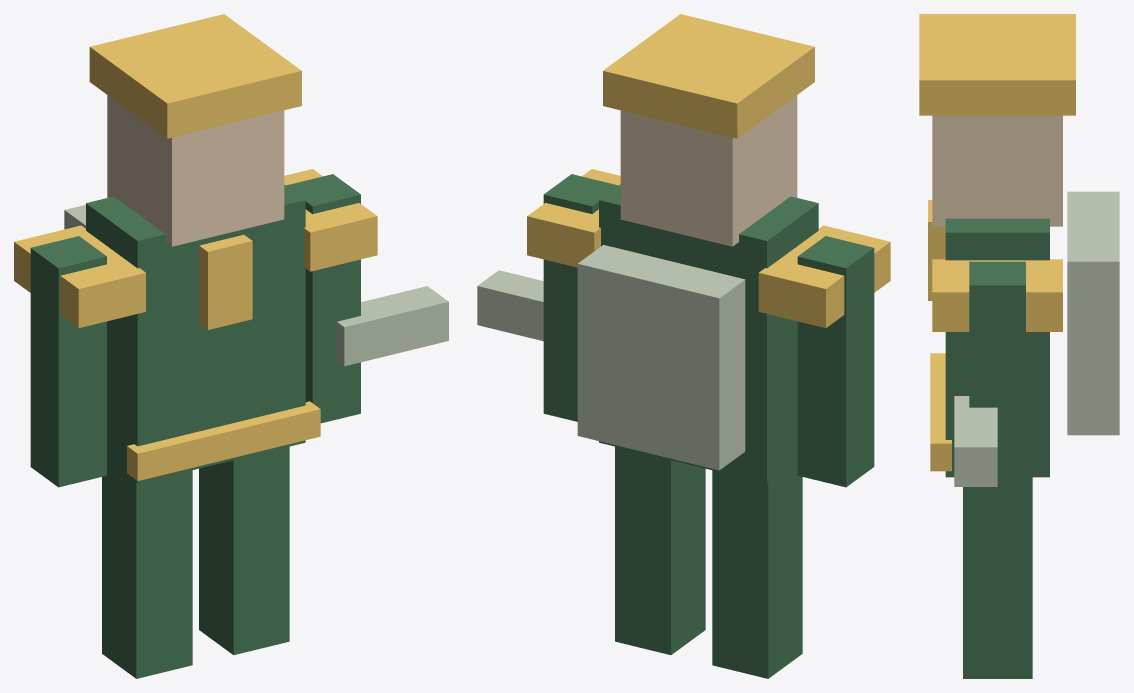
File: 12_juno_spirebound_diver_near_bass.glb
3 views of the same model, side by side, from view 1: azimuth 30°, elevation 25°; view 2: azimuth 150°, elevation 25°; view 3: azimuth 270°, elevation 25° (orthographic).
Parts seen in each view (by area): view 1: Juno Spirebound, Diver near Bass; view 2: Juno Spirebound, Diver near Bass; view 3: Juno Spirebound, Diver near Bass.
Part boxes in pixels (<box>): Juno Spirebound, Diver near Bass: <box>14,14,448,678</box>; Juno Spirebound, Diver near Bass: <box>477,14,890,678</box>; Juno Spirebound, Diver near Bass: <box>919,14,1119,678</box>.
Size of the model in its own units: 1.05 by 1.54 by 0.4714.
